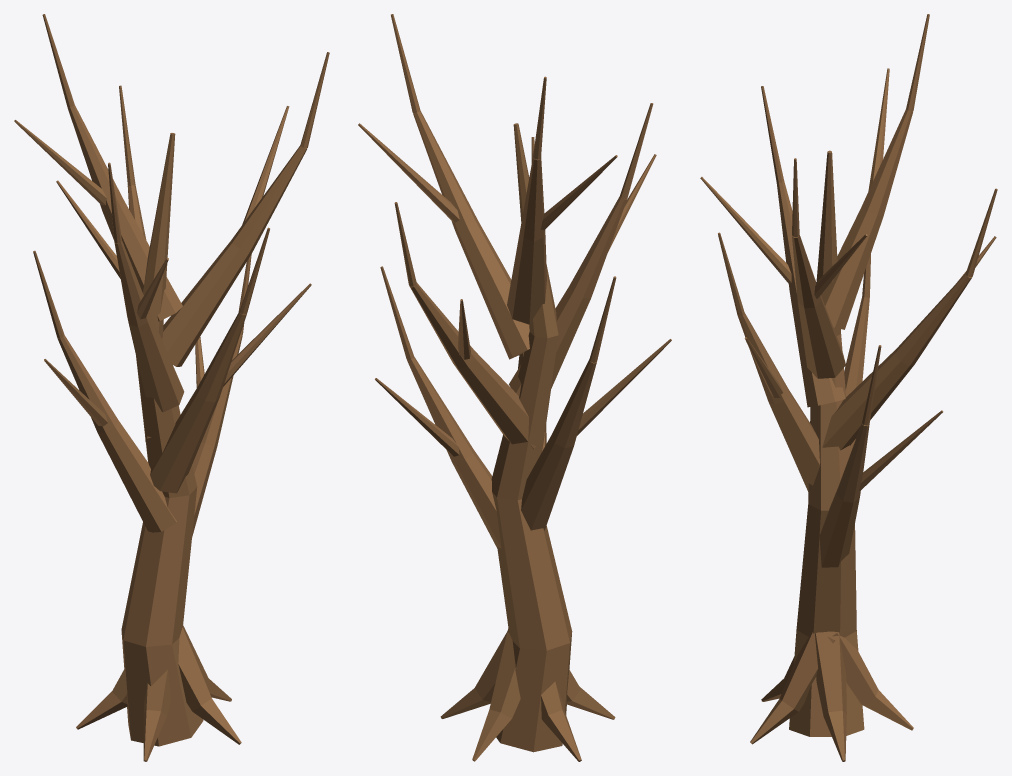
File: DeadTree.fbx
3 renders of one model, left to right at view 1: azimuth 30°, elevation 25°; view 2: azimuth 150°, elevation 25°; view 3: azimuth 270°, elevation 25°, orthographic. The views are drawn at different scales.
Parts seen in each view (by area): view 1: DeadTree; view 2: DeadTree; view 3: DeadTree.
Part boxes in pixels (x1=…): DeadTree: x1=14, y1=14, x2=329, y2=761; DeadTree: x1=358, y1=14, x2=671, y2=761; DeadTree: x1=700, y1=14, x2=997, y2=761.
Size of the model in its own units: 207 by 495 by 194.
